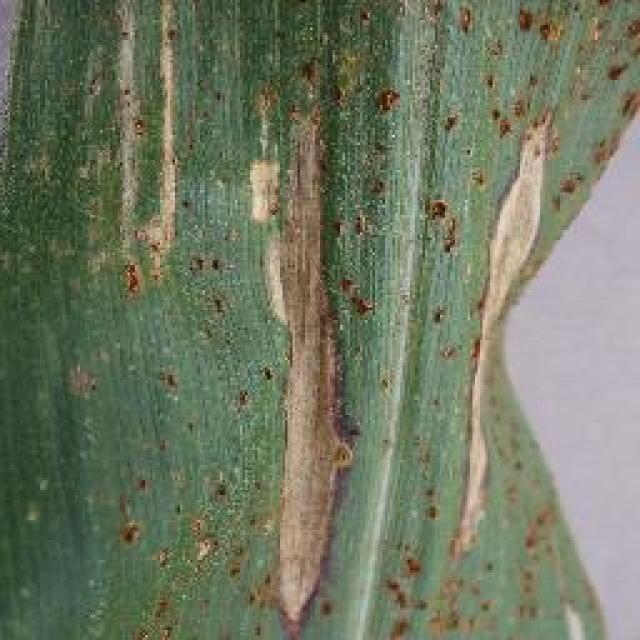Corn___Northern_Leaf_Blight: (101, 111, 570, 640)
